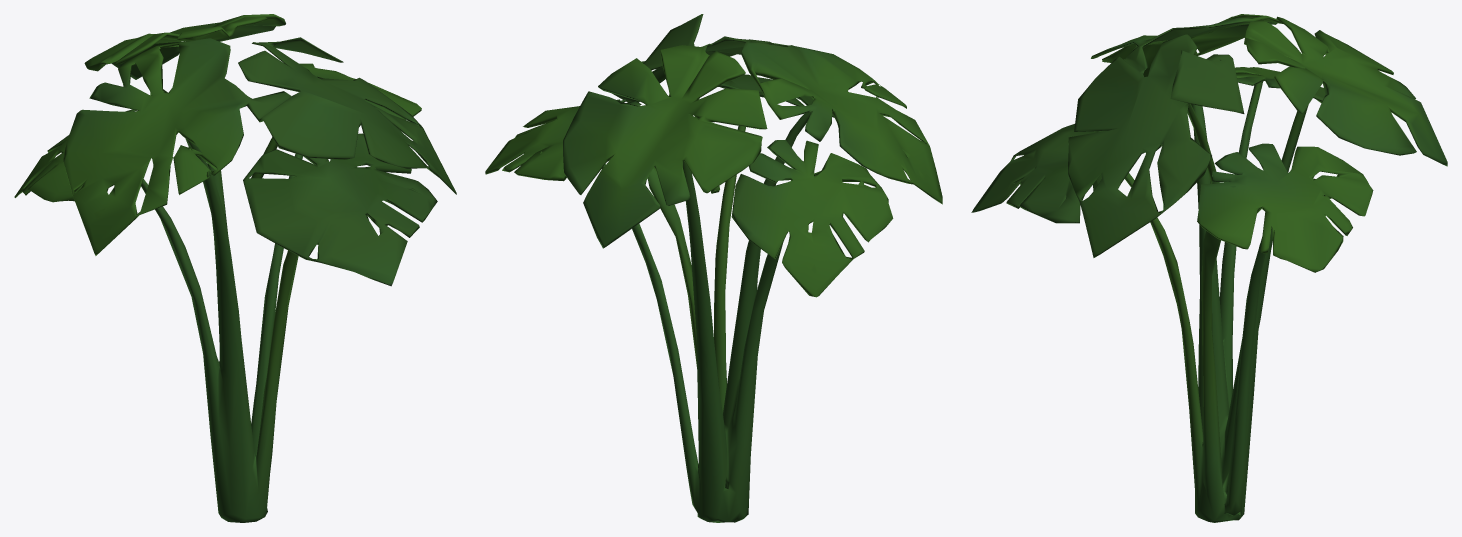
The model's file is gen3d-taro-plant-lod0.glb.
3 views of the same model, side by side, from view 1: azimuth 30°, elevation 25°; view 2: azimuth 150°, elevation 25°; view 3: azimuth 270°, elevation 25° (orthographic).
Visible parts, largest first — view 1: part_0; view 2: part_0; view 3: part_0.
Part boxes in pixels (x1=…): part_0: x1=14, y1=14, x2=456, y2=522; part_0: x1=485, y1=14, x2=942, y2=522; part_0: x1=971, y1=14, x2=1447, y2=522.
Size of the model in its own units: 0.8198 by 0.9994 by 0.8957.
